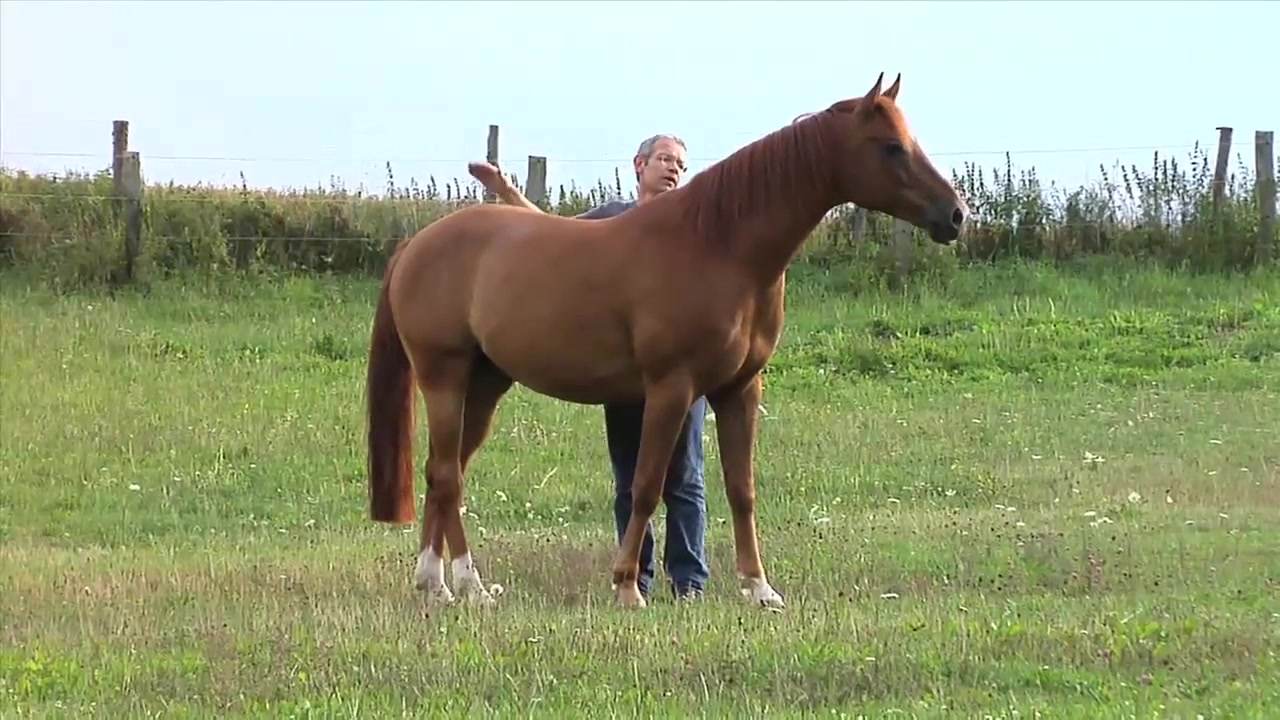horse: (367, 69, 969, 621)
